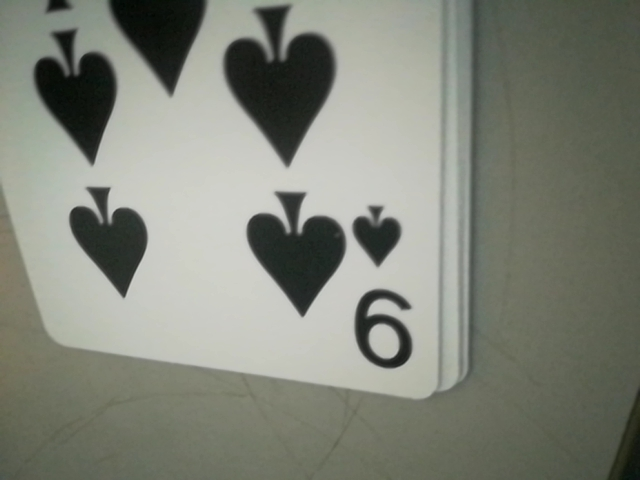ht 9: (347, 197, 421, 380)
